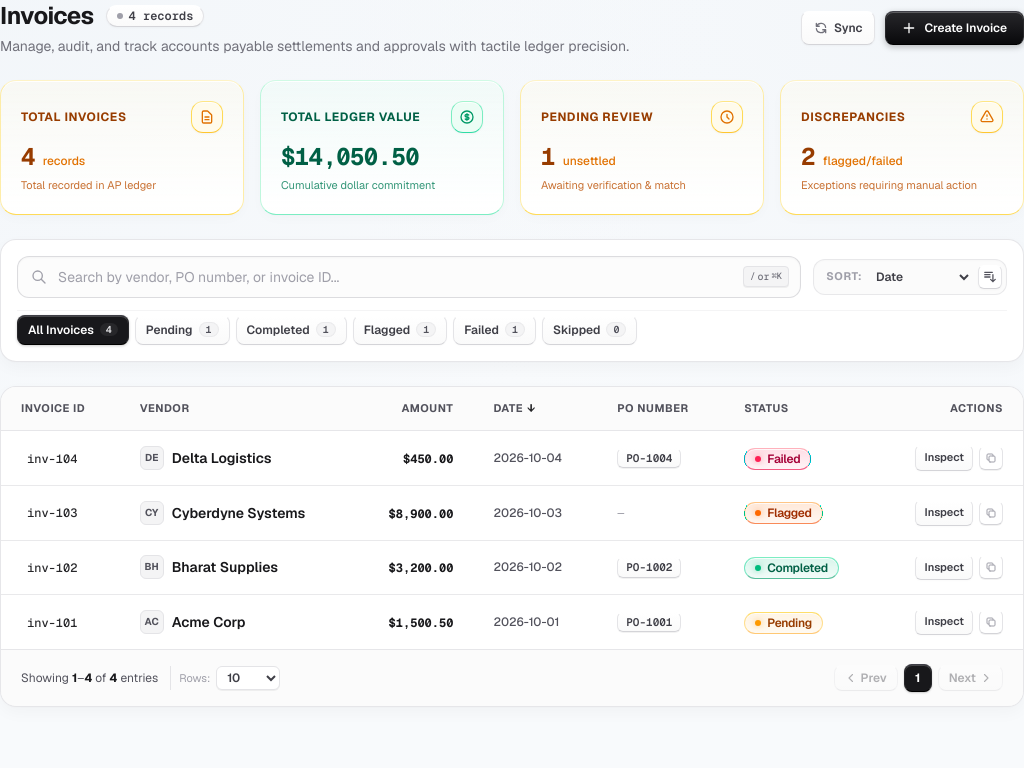
InvoicesPage Component › opens slide-over inspection modal on row click and closes on Escape or Done
Check: the text "Acme Corp" is shown, box [172,612,246,632]
# Click row or Inspect button
Click the button "Inspect" in the row of "Delta Logistics".
click(944, 458)  # box [915,445,973,471]
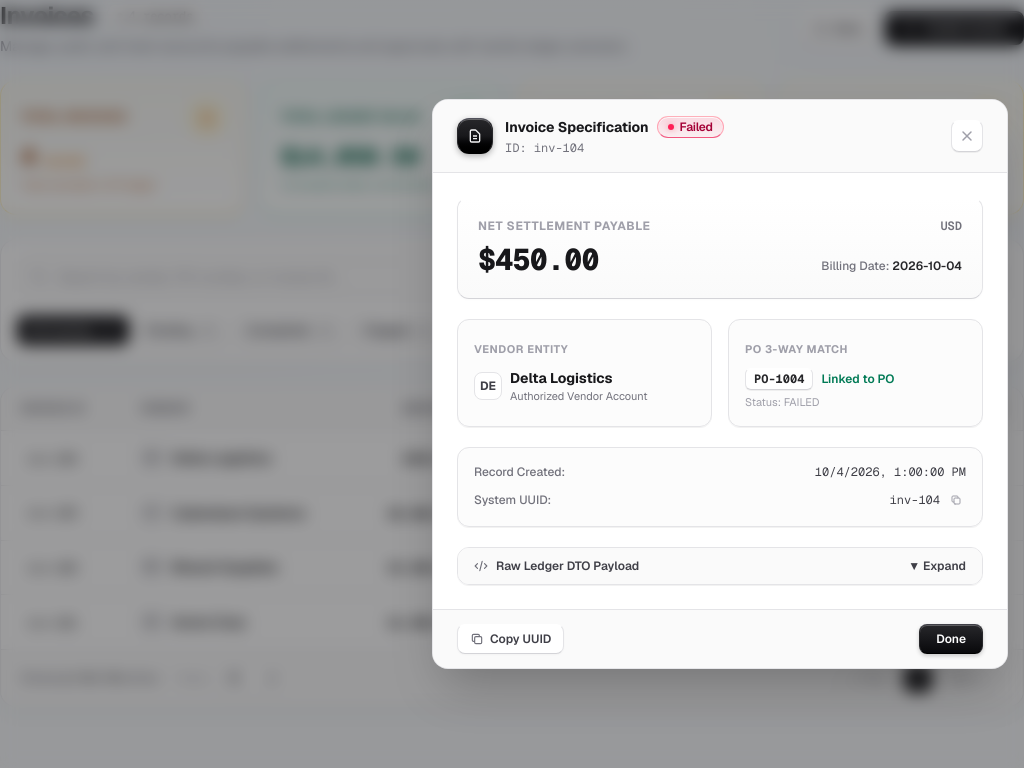
Check: the heading "Invoice Specification" is shown, box [505,117,649,137]
Check: the text "Net Settlement Payable" is shown, box [478,218,651,234]
# Close modal via Done button
Click the button "Done".
click(951, 639)  # box [919,624,983,654]
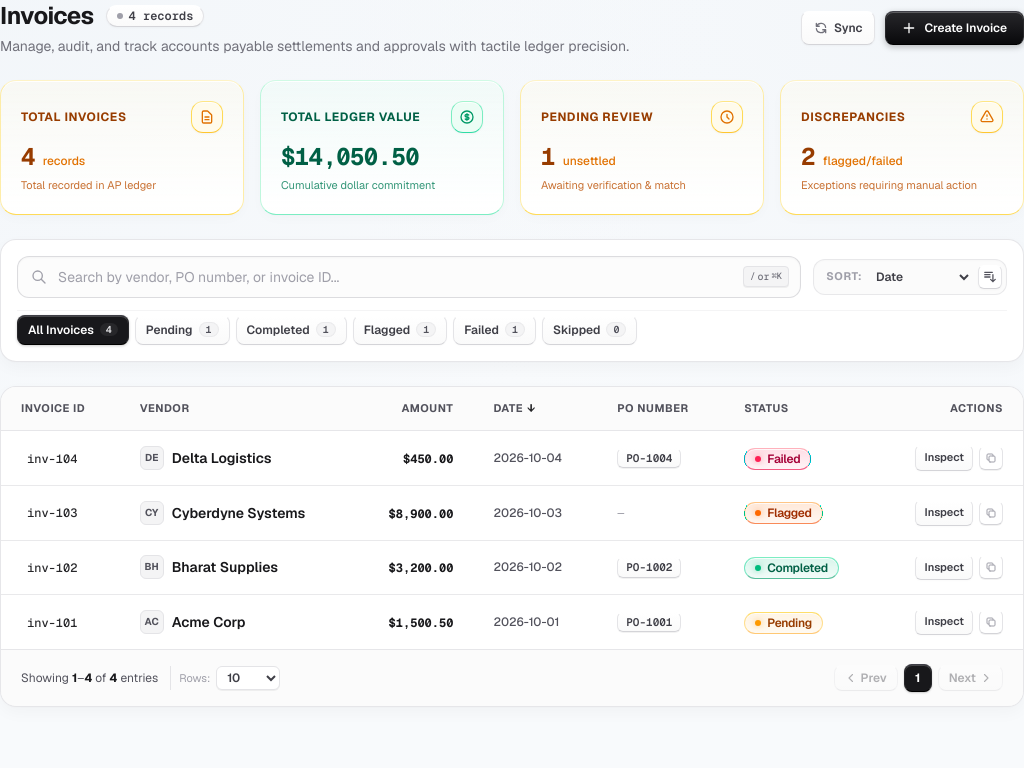
Check: the heading "Invoice Specification" is gone
